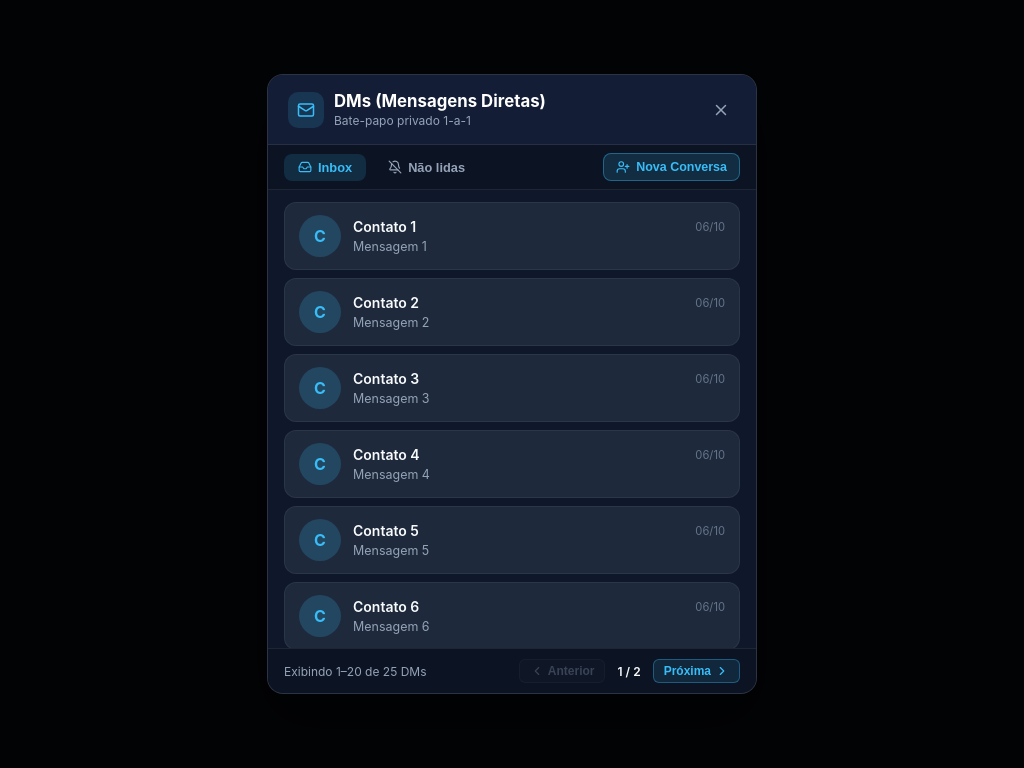
Test: ChatDmModal and ChatDmConversationView Components › resets to page 1 when switching between inbox and unread tabs
expect the text "Contato 1" is shown: met, box [353,218,416,235]
Click the button with test id "dm-pagination-next-btn" at (696,671), box [653,659,740,683]
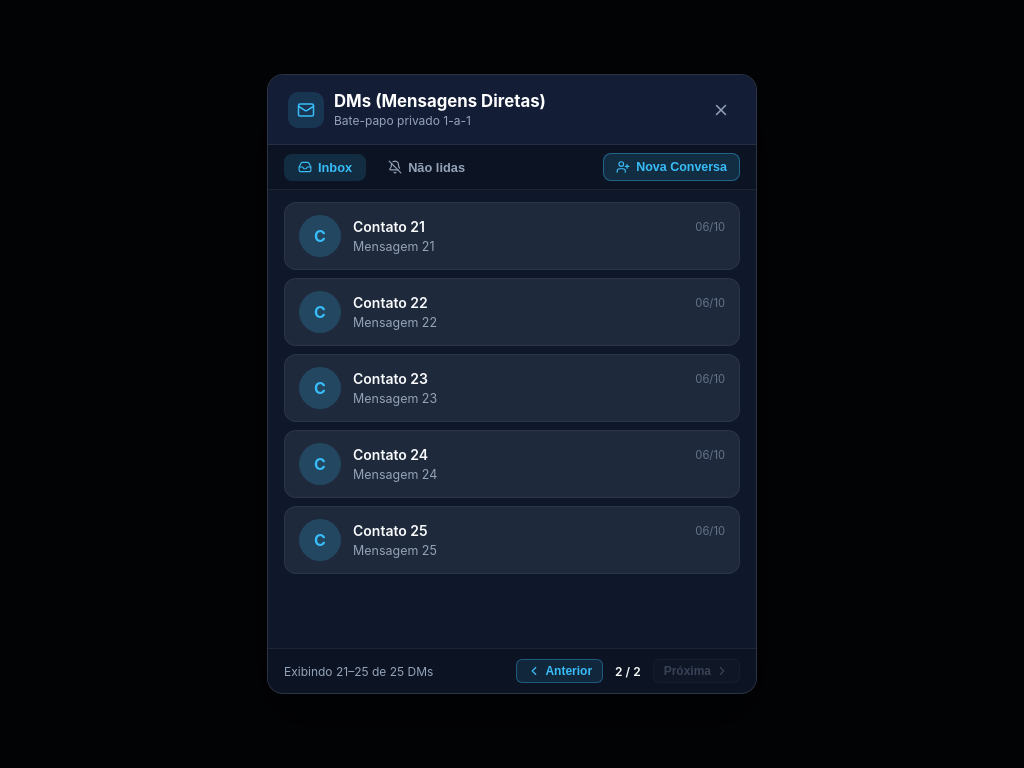
expect the text "Contato 25" is shown: met, box [353,522,428,539]
expect the text with test id "dm-pagination-indicator" reads "2 / 2": met, box [615,664,641,678]
# Muda para a aba não lidas
Click the button with test id "dm-tab-unread" at (427,167), box [374,154,479,180]
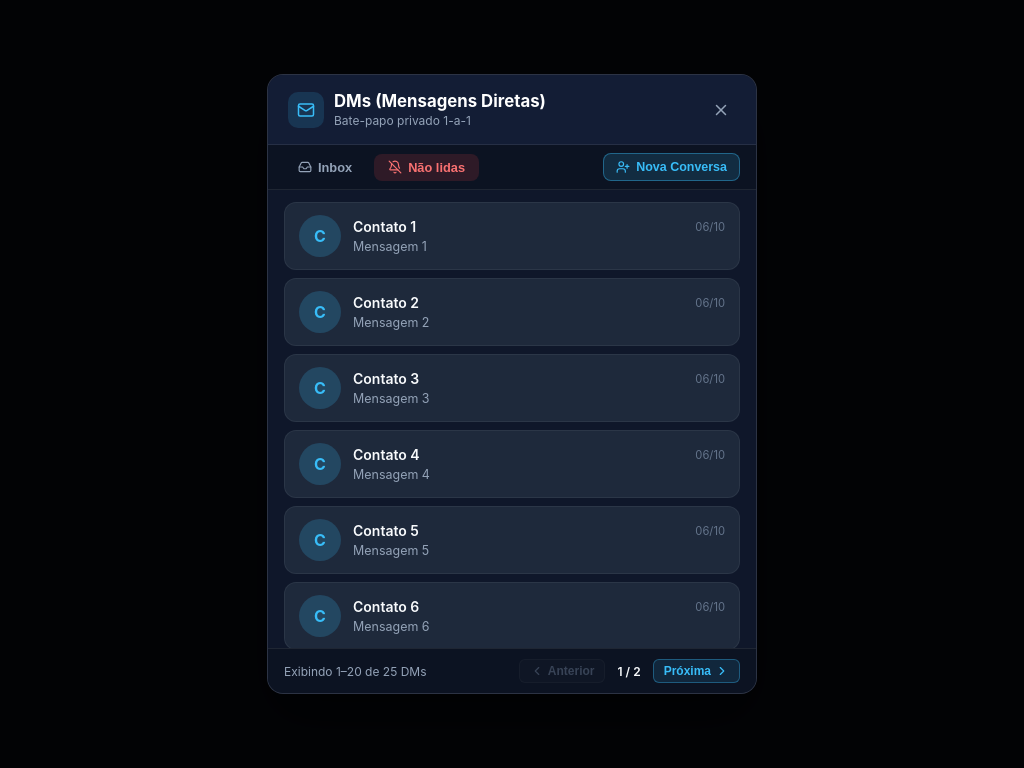
expect the text with test id "dm-pagination-indicator" reads "1 / 2": met, box [618,664,641,678]
